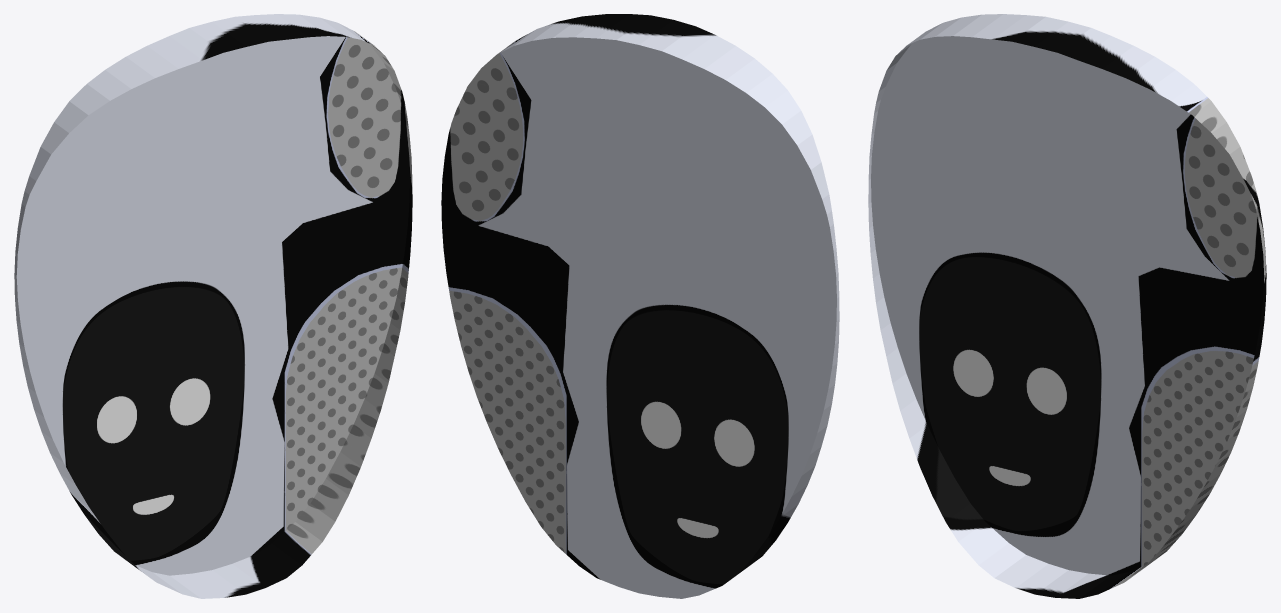
The model's file is head_faceplate.obj.
3 views of the same model, side by side, from view 1: azimuth 30°, elevation 25°; view 2: azimuth 150°, elevation 25°; view 3: azimuth 330°, elevation 25° (orthographic).
Parts seen in each view (by area): view 1: TurtleDefaultBakeLayer FacePlate; view 2: TurtleDefaultBakeLayer FacePlate; view 3: TurtleDefaultBakeLayer FacePlate.
Boxes of the visible parts, left/top/right/bottom form: TurtleDefaultBakeLayer FacePlate: left=14, top=14, right=412, bottom=598; TurtleDefaultBakeLayer FacePlate: left=441, top=14, right=839, bottom=598; TurtleDefaultBakeLayer FacePlate: left=868, top=14, right=1266, bottom=598.
Size of the model in its own units: 0.1651 by 0.2187 by 0.0249.
